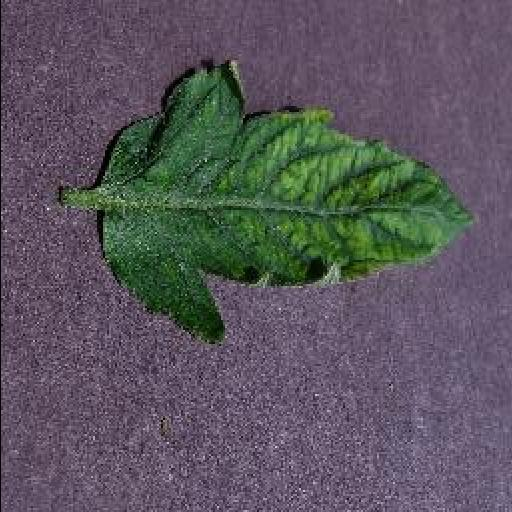disease_tomato: (96, 58, 480, 342)
